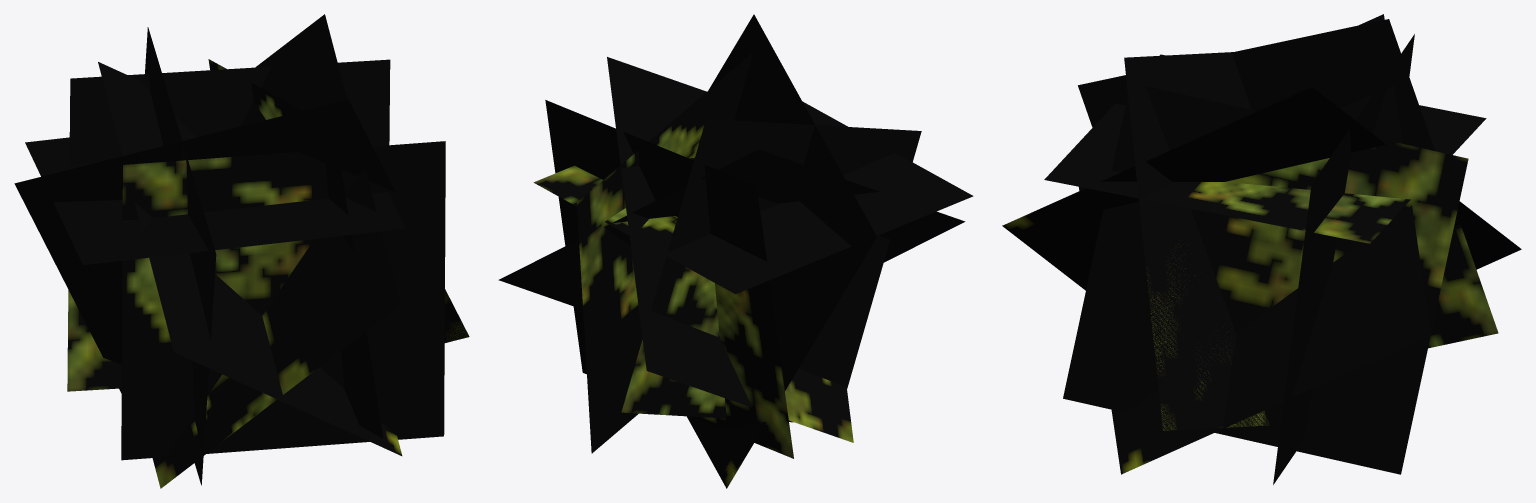
Rendered from beech_leaves_yellowish_3.obj.
3 views of the same model, side by side, from view 1: azimuth 30°, elevation 25°; view 2: azimuth 150°, elevation 25°; view 3: azimuth 270°, elevation 25° (orthographic). The views are drawn at different scales.
Parts seen in each view (by area): view 1: north, south, east, west, top; view 2: east, south, west, top; view 3: west, east, south, top.
Part boxes in pixels (x1=…): north: x1=121, y1=141, x2=445, y2=460; south: x1=67, y1=14, x2=400, y2=488; east: x1=14, y1=27, x2=469, y2=485; west: x1=98, y1=59, x2=402, y2=455; top: x1=25, y1=137, x2=405, y2=264; east: x1=621, y1=14, x2=921, y2=488; south: x1=545, y1=57, x2=853, y2=458; west: x1=498, y1=53, x2=965, y2=453; top: x1=533, y1=101, x2=973, y2=294; west: x1=1063, y1=14, x2=1468, y2=474; east: x1=1078, y1=19, x2=1498, y2=430; south: x1=1002, y1=34, x2=1521, y2=484; top: x1=1044, y1=54, x2=1486, y2=243.
Bounding box in the file's own units: 2.27 × 1.98 × 2.25.
